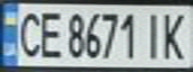1: (118, 9, 142, 60)
6: (81, 9, 103, 60)
7: (100, 9, 121, 60)
8: (63, 8, 84, 60)
C: (12, 7, 45, 60)
E: (36, 7, 66, 60)
I: (139, 9, 166, 60)
K: (157, 8, 193, 61)
